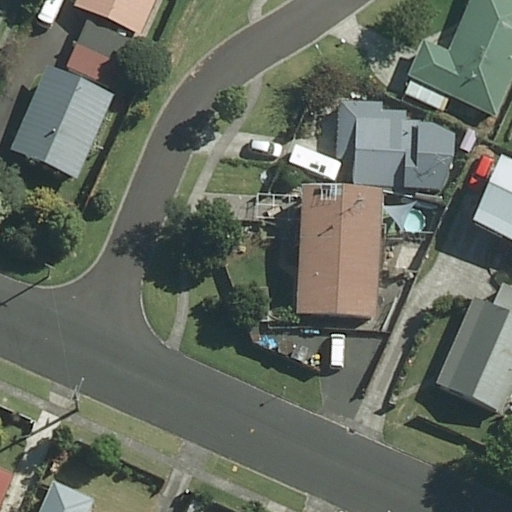DT: (65, 375, 85, 415), (39, 258, 56, 282)
